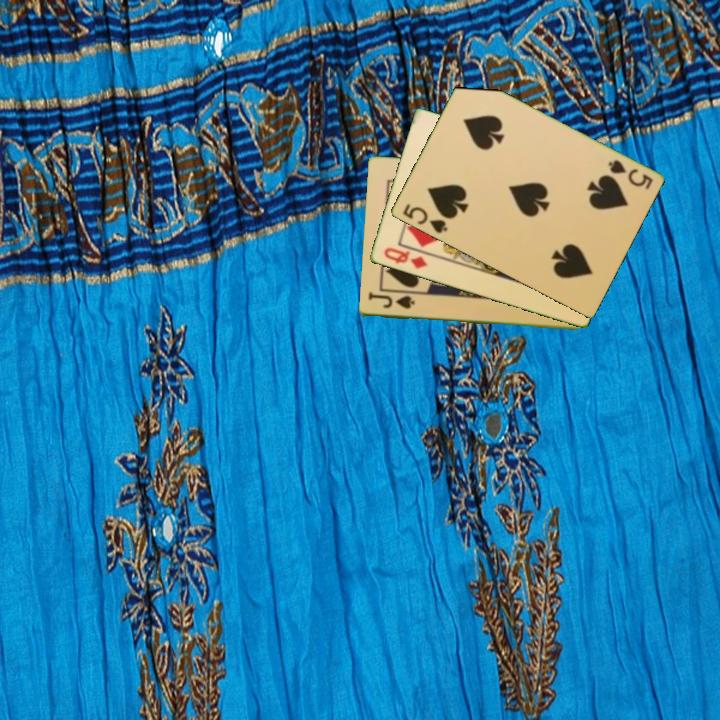5s: (399, 200, 450, 237), (604, 156, 655, 192)
Js: (365, 291, 417, 312)
Qd: (380, 244, 430, 272)
